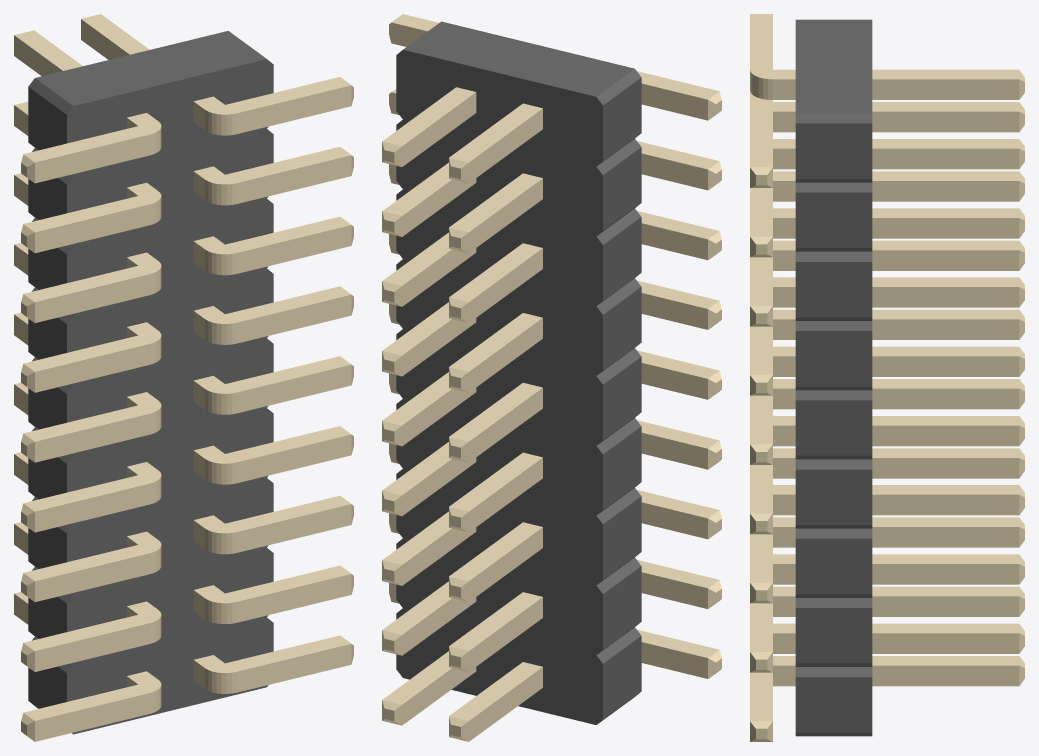
The model's file is PinHeader_2x09_P1.00mm_Vertical_SMD.glb.
3 renders of one model, left to right at view 1: azimuth 30°, elevation 25°; view 2: azimuth 150°, elevation 25°; view 3: azimuth 270°, elevation 25°, orthographic.
Parts seen in each view (by area): view 1: Shape_IndexedFaceSet.003, Shape_IndexedFaceSet.001, Shape_IndexedFaceSet.260, Shape_IndexedFaceSet.205, Shape_IndexedFaceSet.265, Shape_IndexedFaceSet.290, Shape_IndexedFaceSet.210, Shape_IndexedFaceSet.215, Shape_IndexedFaceSet.235, Shape_IndexedFaceSet.250, Shape_IndexedFaceSet.255, Shape_IndexedFaceSet.240 (+48 smaller); view 2: Shape_IndexedFaceSet.004, Shape_IndexedFaceSet.001, Shape_IndexedFaceSet.007, Shape_IndexedFaceSet.013, Shape_IndexedFaceSet.019, Shape_IndexedFaceSet.037, Shape_IndexedFaceSet.049, Shape_IndexedFaceSet.055, Shape_IndexedFaceSet.025, Shape_IndexedFaceSet.043, Shape_IndexedFaceSet.031, Shape_IndexedFaceSet.131 (+54 smaller); view 3: Shape_IndexedFaceSet.001, Shape_IndexedFaceSet.040, Shape_IndexedFaceSet.002, Shape_IndexedFaceSet.022, Shape_IndexedFaceSet.028, Shape_IndexedFaceSet.052, Shape_IndexedFaceSet.010, Shape_IndexedFaceSet.016, Shape_IndexedFaceSet.034, Shape_IndexedFaceSet.046, Shape_IndexedFaceSet.133, Shape_IndexedFaceSet.148 (+72 smaller).
Part boxes in pixels (<box>): Shape_IndexedFaceSet.003: <box>67,59,273,734</box>; Shape_IndexedFaceSet.001: <box>35,31,266,105</box>; Shape_IndexedFaceSet.260: <box>236,504,351,552</box>; Shape_IndexedFaceSet.205: <box>236,85,351,133</box>; Shape_IndexedFaceSet.265: <box>236,434,351,483</box>; Shape_IndexedFaceSet.290: <box>236,644,351,692</box>; Shape_IndexedFaceSet.210: <box>236,155,351,203</box>; Shape_IndexedFaceSet.215: <box>236,225,351,273</box>; Shape_IndexedFaceSet.235: <box>236,364,351,413</box>; Shape_IndexedFaceSet.250: <box>236,294,351,343</box>; Shape_IndexedFaceSet.255: <box>236,574,351,622</box>; Shape_IndexedFaceSet.240: <box>35,414,149,462</box>; Shape_IndexedFaceSet.004: <box>396,49,602,724</box>; Shape_IndexedFaceSet.001: <box>403,21,634,96</box>; Shape_IndexedFaceSet.007: <box>603,77,641,160</box>; Shape_IndexedFaceSet.013: <box>603,147,641,230</box>; Shape_IndexedFaceSet.019: <box>603,217,641,300</box>; Shape_IndexedFaceSet.037: <box>603,426,641,509</box>; Shape_IndexedFaceSet.049: <box>603,566,641,649</box>; Shape_IndexedFaceSet.055: <box>603,636,641,719</box>; Shape_IndexedFaceSet.025: <box>603,287,641,370</box>; Shape_IndexedFaceSet.043: <box>603,496,641,579</box>; Shape_IndexedFaceSet.031: <box>603,357,641,439</box>; Shape_IndexedFaceSet.131: <box>402,92,476,166</box>; Shape_IndexedFaceSet.001: <box>795,19,872,113</box>; Shape_IndexedFaceSet.040: <box>795,538,872,594</box>; Shape_IndexedFaceSet.002: <box>795,123,872,178</box>; Shape_IndexedFaceSet.022: <box>795,331,872,386</box>; Shape_IndexedFaceSet.028: <box>795,400,872,455</box>; Shape_IndexedFaceSet.052: <box>795,677,872,732</box>; Shape_IndexedFaceSet.010: <box>795,192,872,247</box>; Shape_IndexedFaceSet.016: <box>795,262,872,317</box>; Shape_IndexedFaceSet.034: <box>795,469,872,524</box>; Shape_IndexedFaceSet.046: <box>795,608,872,663</box>; Shape_IndexedFaceSet.133: <box>872,111,1019,132</box>; Shape_IndexedFaceSet.148: <box>872,148,1019,169</box>.
Size of the model in its own units: 1.93 by 3.54 by 1.42.
